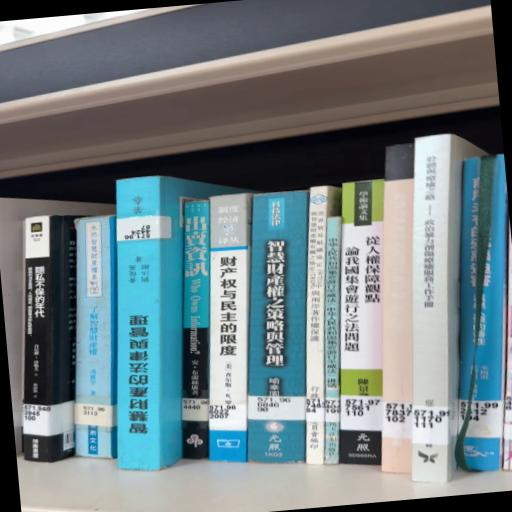reverse: (116, 176, 254, 471)
